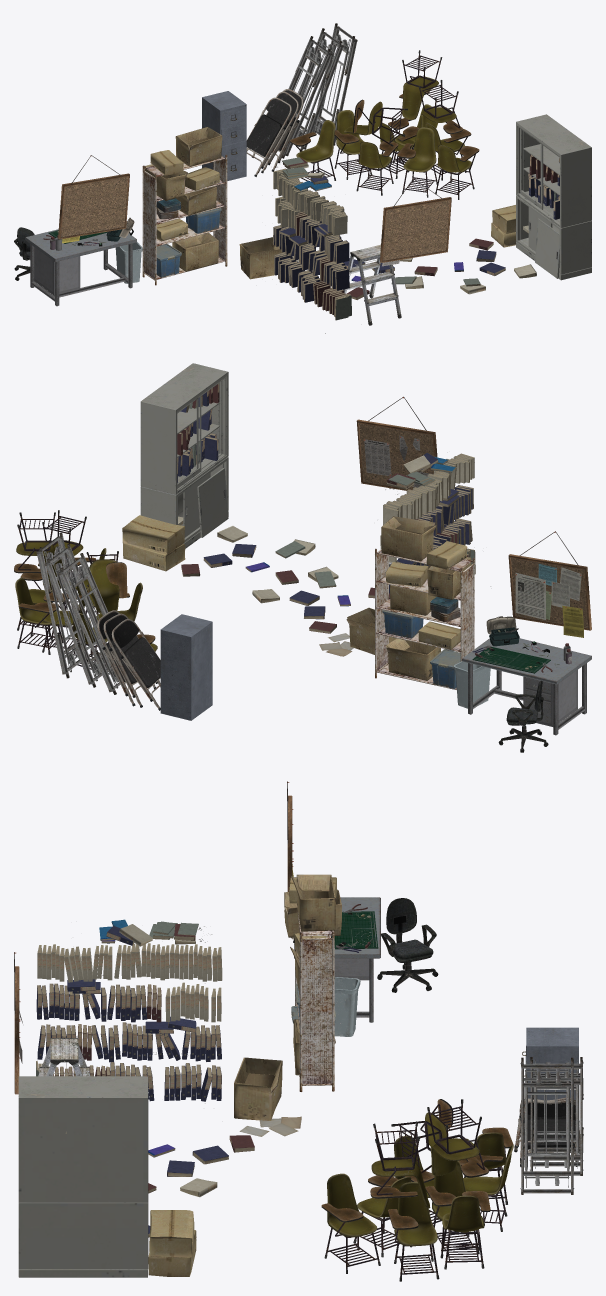
The model's file is sm301_01_206room_00.fbx.
3 views of the same model, one above another, from view 1: azimuth 30°, elevation 25°; view 2: azimuth 150°, elevation 25°; view 3: azimuth 270°, elevation 25° (orthographic). The views are drawn at different scales.
Visible parts, largest first — view 1: 0214_sm39007BookAndCabinet01A00ms_1_Group_0_Sub_1__sm30_7c10, 0095_sm39006BookAndShelf01A00ms_1_Group_0_Sub_1__sm36_0_1d26, 0023_sm30001ChairDesk01A00ms_1_Group_0_Sub_1__sm30_001__677e, 0209_sm39064IronShelfSet05A00ms_1_Group_0_Sub_1__sm36_0_5652, 0184_sm30004FoldingTable02A00ms_1_Group_0_Sub_1__sm30_0_ac7c, 0155_sm30062CorkBoard01A00ms_1_Group_0_Sub_1__sm30_062__1210, 0158_sm30214CorkBoard03A00ms_1_Group_0_Sub_1__sm30_062__dc9b, 0231_sm39064IronShelfSet05A00ms_1_Group_0_Sub_4__sm30_0_9db6, 0175_sm30199FoldingChair01A00ms_1_Group_0_Sub_1__sm30_1_d3f7, 0028_sm30001ChairDesk01A00ms_1_Group_5_Sub_1__sm30_001__11b0, 0212_sm39064IronShelfSet05A00ms_1_Group_0_Sub_2__sm36_0_62c9, 0185_sm30154Foldingladder02A00ms_1_Group_0_Sub_1__sm30__f868 (+15 smaller); view 2: 0214_sm39007BookAndCabinet01A00ms_1_Group_0_Sub_1__sm30_7c10, 0184_sm30004FoldingTable02A00ms_1_Group_0_Sub_1__sm30_0_ac7c, 0209_sm39064IronShelfSet05A00ms_1_Group_0_Sub_1__sm36_0_5652, 0225_sm30047FilingCabinet01B00ms_1_Group_0_Sub_1__sm30__d783, 0095_sm39006BookAndShelf01A00ms_1_Group_0_Sub_1__sm36_0_1d26, 0231_sm39064IronShelfSet05A00ms_1_Group_0_Sub_4__sm30_0_9db6, 0023_sm30001ChairDesk01A00ms_1_Group_0_Sub_1__sm30_001__677e, 0175_sm30199FoldingChair01A00ms_1_Group_0_Sub_1__sm30_1_d3f7, 0143_sm30214CorkBoard03A00ms_1_Group_0_Sub_2__sm36_049__cf55, 0155_sm30062CorkBoard01A00ms_1_Group_0_Sub_1__sm30_062__1210, 0211_sm36004Cardboard03A00ms_1_Group_0_Sub_1__sm36_004__0e45, 0212_sm39064IronShelfSet05A00ms_1_Group_0_Sub_2__sm36_0_62c9 (+18 smaller); view 3: 0214_sm39007BookAndCabinet01A00ms_1_Group_0_Sub_1__sm30_7c10, 0095_sm39006BookAndShelf01A00ms_1_Group_0_Sub_1__sm36_0_1d26, 0023_sm30001ChairDesk01A00ms_1_Group_0_Sub_1__sm30_001__677e, 0184_sm30004FoldingTable02A00ms_1_Group_0_Sub_1__sm30_0_ac7c, 0231_sm39064IronShelfSet05A00ms_1_Group_0_Sub_4__sm30_0_9db6, 0028_sm30001ChairDesk01A00ms_1_Group_5_Sub_1__sm30_001__11b0, 0209_sm39064IronShelfSet05A00ms_1_Group_0_Sub_1__sm36_0_5652, 0211_sm36004Cardboard03A00ms_1_Group_0_Sub_1__sm36_004__0e45, 0208_sm36002Cardboard01A00ms_1_Group_0_Sub_1__sm36_002__525e, 0225_sm30047FilingCabinet01B00ms_1_Group_0_Sub_1__sm30__d783, 0175_sm30199FoldingChair01A00ms_1_Group_0_Sub_1__sm30_1_d3f7, 0216_sm30104Dustbox01B00ms_1_Group_0_Sub_1__sm30_104_Du_404c (+12 smaller).
Boxes of the visible parts, x1,y1,x2,y2 form: 0214_sm39007BookAndCabinet01A00ms_1_Group_0_Sub_1__sm30_7c10: [516, 114, 591, 280]; 0095_sm39006BookAndShelf01A00ms_1_Group_0_Sub_1__sm36_0_1d26: [273, 168, 351, 320]; 0023_sm30001ChairDesk01A00ms_1_Group_0_Sub_1__sm30_001__677e: [296, 76, 472, 172]; 0209_sm39064IronShelfSet05A00ms_1_Group_0_Sub_1__sm36_0_5652: [144, 127, 222, 271]; 0184_sm30004FoldingTable02A00ms_1_Group_0_Sub_1__sm30_0_ac7c: [280, 23, 357, 158]; 0155_sm30062CorkBoard01A00ms_1_Group_0_Sub_1__sm30_062__1210: [380, 178, 451, 262]; 0158_sm30214CorkBoard03A00ms_1_Group_0_Sub_1__sm30_062__dc9b: [58, 155, 129, 239]; 0231_sm39064IronShelfSet05A00ms_1_Group_0_Sub_4__sm30_0_9db6: [142, 154, 227, 285]; 0175_sm30199FoldingChair01A00ms_1_Group_0_Sub_1__sm30_1_d3f7: [246, 89, 303, 176]; 0028_sm30001ChairDesk01A00ms_1_Group_5_Sub_1__sm30_001__11b0: [290, 91, 479, 161]; 0212_sm39064IronShelfSet05A00ms_1_Group_0_Sub_2__sm36_0_62c9: [150, 150, 219, 241]; 0185_sm30154Foldingladder02A00ms_1_Group_0_Sub_1__sm30__f868: [343, 244, 401, 325]; 0214_sm39007BookAndCabinet01A00ms_1_Group_0_Sub_1__sm30_7c10: [140, 363, 228, 548]; 0184_sm30004FoldingTable02A00ms_1_Group_0_Sub_1__sm30_0_ac7c: [36, 532, 120, 694]; 0209_sm39064IronShelfSet05A00ms_1_Group_0_Sub_1__sm36_0_5652: [381, 516, 471, 680]; 0225_sm30047FilingCabinet01B00ms_1_Group_0_Sub_1__sm30__d783: [160, 614, 212, 720]; 0095_sm39006BookAndShelf01A00ms_1_Group_0_Sub_1__sm36_0_1d26: [380, 453, 475, 593]; 0231_sm39064IronShelfSet05A00ms_1_Group_0_Sub_4__sm30_0_9db6: [375, 548, 474, 689]; 0023_sm30001ChairDesk01A00ms_1_Group_0_Sub_1__sm30_001__677e: [15, 540, 157, 651]; 0175_sm30199FoldingChair01A00ms_1_Group_0_Sub_1__sm30_1_d3f7: [97, 610, 160, 710]; 0143_sm30214CorkBoard03A00ms_1_Group_0_Sub_2__sm36_049__cf55: [515, 564, 583, 637]; 0155_sm30062CorkBoard01A00ms_1_Group_0_Sub_1__sm30_062__1210: [356, 396, 437, 490]; 0211_sm36004Cardboard03A00ms_1_Group_0_Sub_1__sm36_004__0e45: [122, 515, 185, 571]; 0212_sm39064IronShelfSet05A00ms_1_Group_0_Sub_2__sm36_0_62c9: [385, 541, 467, 649]; 0214_sm39007BookAndCabinet01A00ms_1_Group_0_Sub_1__sm30_7c10: [18, 1076, 148, 1277]; 0095_sm39006BookAndShelf01A00ms_1_Group_0_Sub_1__sm36_0_1d26: [36, 943, 222, 1101]; 0023_sm30001ChairDesk01A00ms_1_Group_0_Sub_1__sm30_001__677e: [327, 1112, 513, 1246]; 0184_sm30004FoldingTable02A00ms_1_Group_0_Sub_1__sm30_0_ac7c: [520, 1057, 583, 1194]; 0231_sm39064IronShelfSet05A00ms_1_Group_0_Sub_4__sm30_0_9db6: [295, 903, 334, 1091]; 0028_sm30001ChairDesk01A00ms_1_Group_5_Sub_1__sm30_001__11b0: [321, 1099, 513, 1229]; 0209_sm39064IronShelfSet05A00ms_1_Group_0_Sub_1__sm36_0_5652: [284, 874, 341, 1075]; 0211_sm36004Cardboard03A00ms_1_Group_0_Sub_1__sm36_004__0e45: [148, 1210, 196, 1276]; 0208_sm36002Cardboard01A00ms_1_Group_0_Sub_1__sm36_002__525e: [234, 1057, 282, 1120]; 0225_sm30047FilingCabinet01B00ms_1_Group_0_Sub_1__sm30__d783: [526, 1027, 578, 1100]; 0175_sm30199FoldingChair01A00ms_1_Group_0_Sub_1__sm30_1_d3f7: [514, 1097, 580, 1166]; 0216_sm30104Dustbox01B00ms_1_Group_0_Sub_1__sm30_104_Du_404c: [334, 977, 360, 1036].
Bounding box in the file's own units: 8.53 × 2.71 × 6.59.
